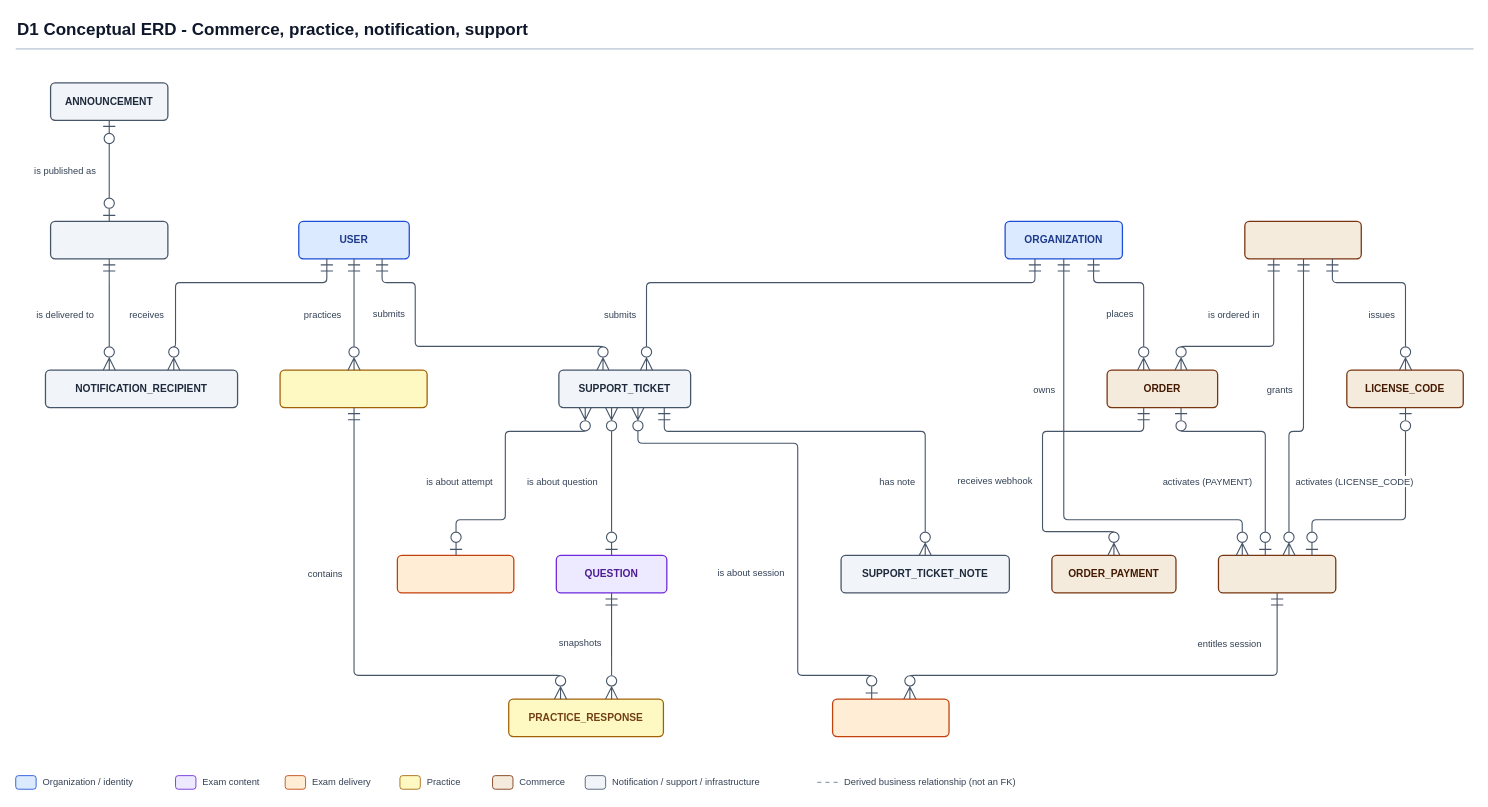
This 1488x807 diagram has some shape labels left out. Here are the shapes that lost their labels. From the top down, the centre of each, then its label:
At point 109,239: "NOTIFICATION".
At point 1303,239: "SERVICE_PLAN".
At point 353,388: "PRACTICE_SESSION".
At point 455,573: "EXAM_ATTEMPT".
At point 1276,573: "SUBSCRIPTION".
At point 890,717: "EXAM_SESSION".
